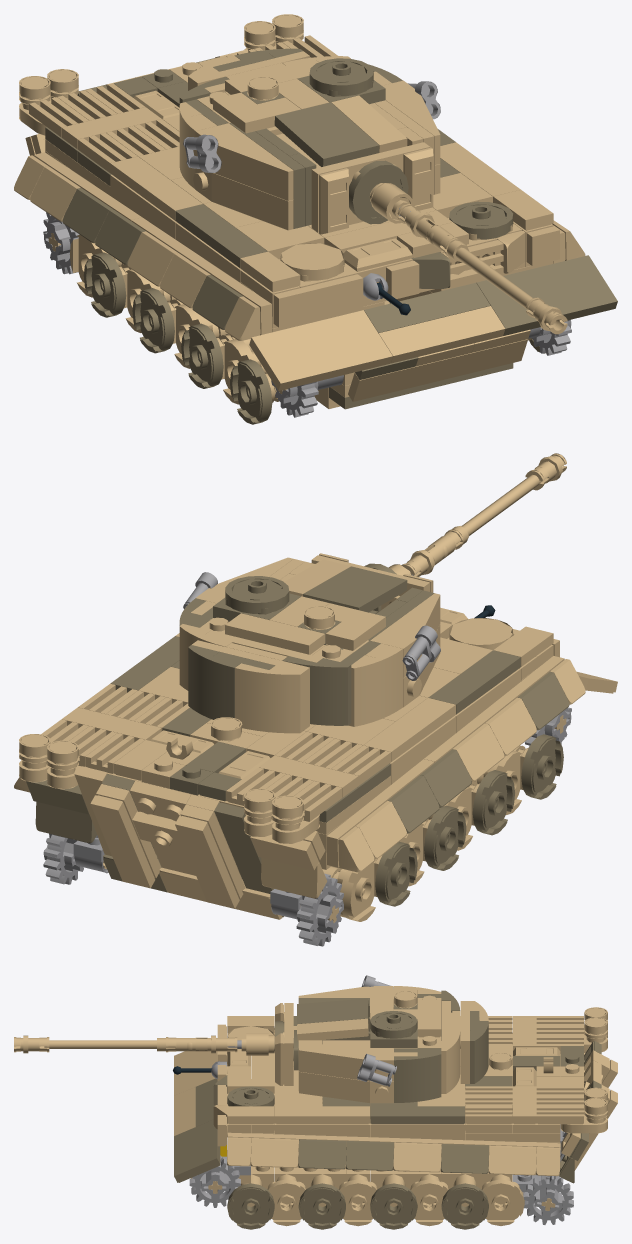
The model's file is tank_tiger_destroyed.glb.
The picture shows the model from 3 angles, top to bottom: view 1: azimuth 30°, elevation 25°; view 2: azimuth 150°, elevation 25°; view 3: azimuth 270°, elevation 25°; orthographic projection. The views are drawn at different scales.
Parts seen in each view (by area): view 1: 2431.dat.009, 99780.dat.003, 26603.dat, 60477.dat.001, 63864.dat, 60477.dat, 2431.dat.004, 2431.dat.006, 3062b.dat.001, 3062b.dat, 3062b.dat.002, 3062b.dat.003 (+68 smaller); view 2: 2431.dat.002, 99780.dat.003, 15068.dat.003, 15068.dat.004, 15068.dat.002, 26603.dat, 15068.dat.001, 2412b.dat.009, 2431.dat.004, 2431.dat.006, 63864.dat.003, 3062b.dat (+73 smaller); view 3: 99780.dat.003, 2431.dat.009, 15068.dat.005, 60477.dat.003, 60477.dat.002, 3062b.dat.011, 3062b.dat.010, 3062b.dat.009, 2412b.dat.009, 3062b.dat.008, 2431.dat.005, 2431.dat.007 (+67 smaller).
Boxes of the visible parts, x1,y1,x2,y2 form: 2431.dat.009: (249,255,617,401); 99780.dat.003: (311,142,567,334); 26603.dat: (274,102,379,166); 60477.dat.001: (193,123,293,200); 63864.dat: (273,274,363,327); 60477.dat: (193,168,293,230); 2431.dat.004: (110,156,202,220); 2431.dat.006: (175,204,267,267); 3062b.dat.001: (181,323,252,388); 3062b.dat: (230,359,318,424); 3062b.dat.002: (132,288,183,353); 3062b.dat.003: (83,252,131,317); 2431.dat.002: (90,774,245,908); 99780.dat.003: (311,453,566,614); 15068.dat.003: (235,663,303,733); 15068.dat.004: (349,646,403,726); 15068.dat.002: (188,645,240,719); 26603.dat: (303,566,407,612); 15068.dat.001: (282,656,351,725); 2412b.dat.009: (41,719,145,773); 2431.dat.004: (363,698,455,761); 2431.dat.006: (428,650,520,714); 63864.dat.003: (225,613,325,654); 3062b.dat: (514,734,563,799); 99780.dat.003: (14,1003,298,1085); 2431.dat.009: (174,1051,220,1182); 15068.dat.005: (394,1052,441,1102); 60477.dat.003: (299,1048,393,1081); 60477.dat.002: (299,1071,393,1103); 3062b.dat.011: (441,1174,488,1229); 3062b.dat.010: (370,1174,417,1229); 3062b.dat.009: (298,1174,345,1229); 2412b.dat.009: (536,1086,583,1124); 3062b.dat.008: (227,1174,274,1229); 2431.dat.005: (370,1106,464,1124); 2431.dat.007: (275,1106,369,1124).
Size of the model in its own units: 1.23 by 0.8166 by 2.54.
